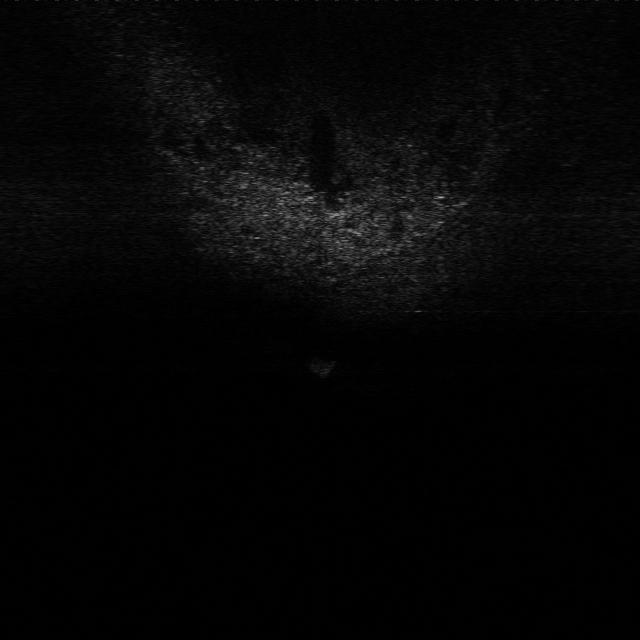cube: (303, 356, 341, 380)
